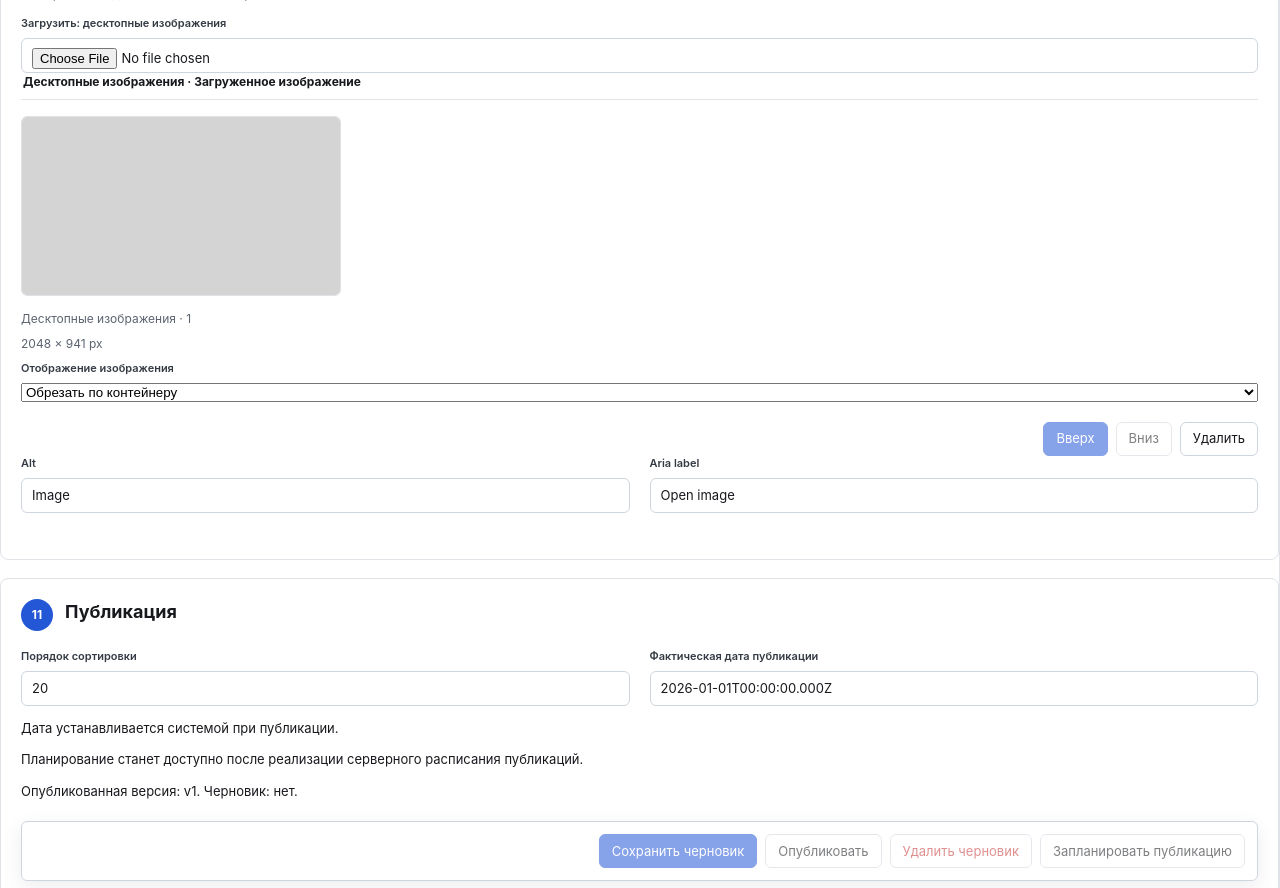
Test: ProjectInspector media corrective QA › closes removal confirmation with Escape without changing draft media
(page scrolled)
Click the button with aria-label "Удалить изображение «Десктопные изображения» 1" at [1219, 439], box top-left (1180, 422), bottom-right (1258, 456)
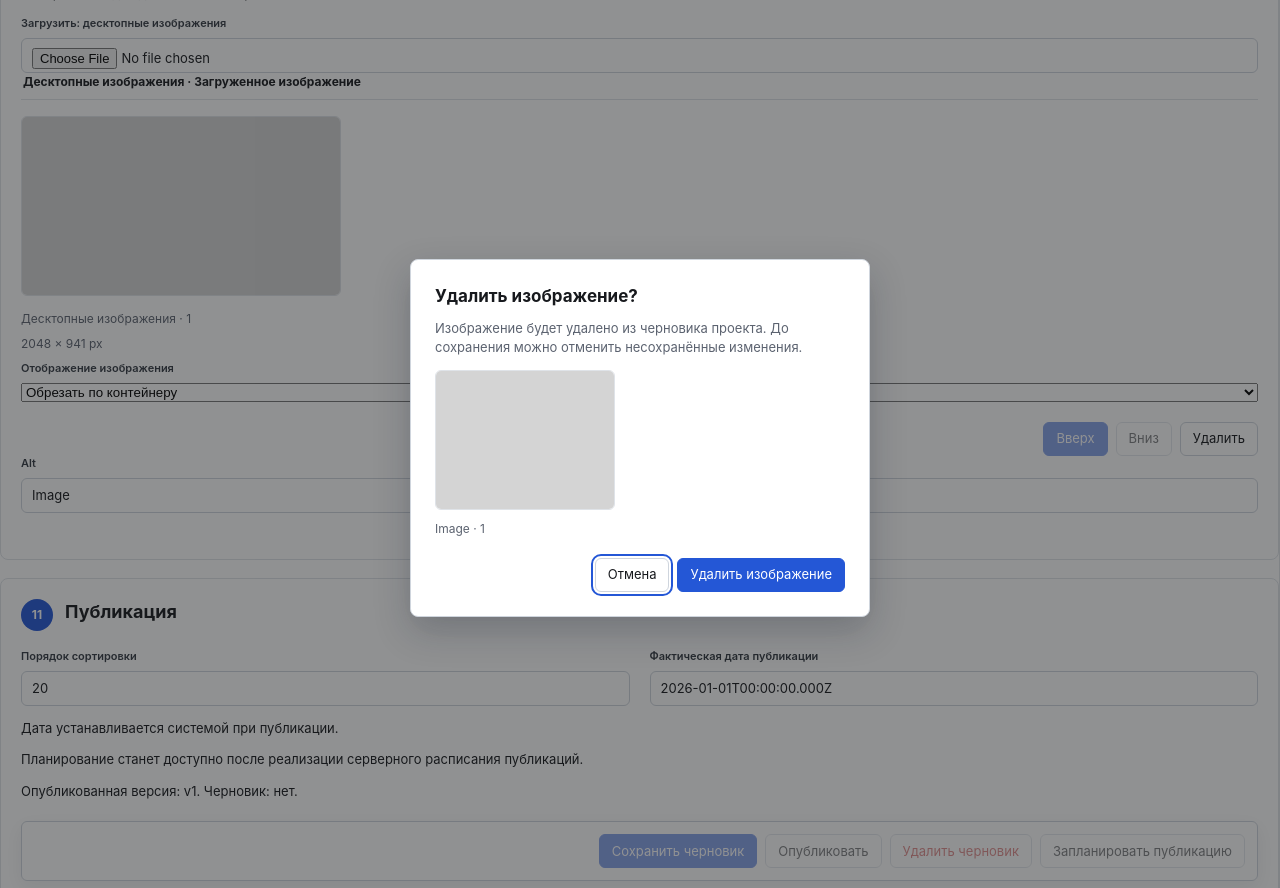
Press Escape
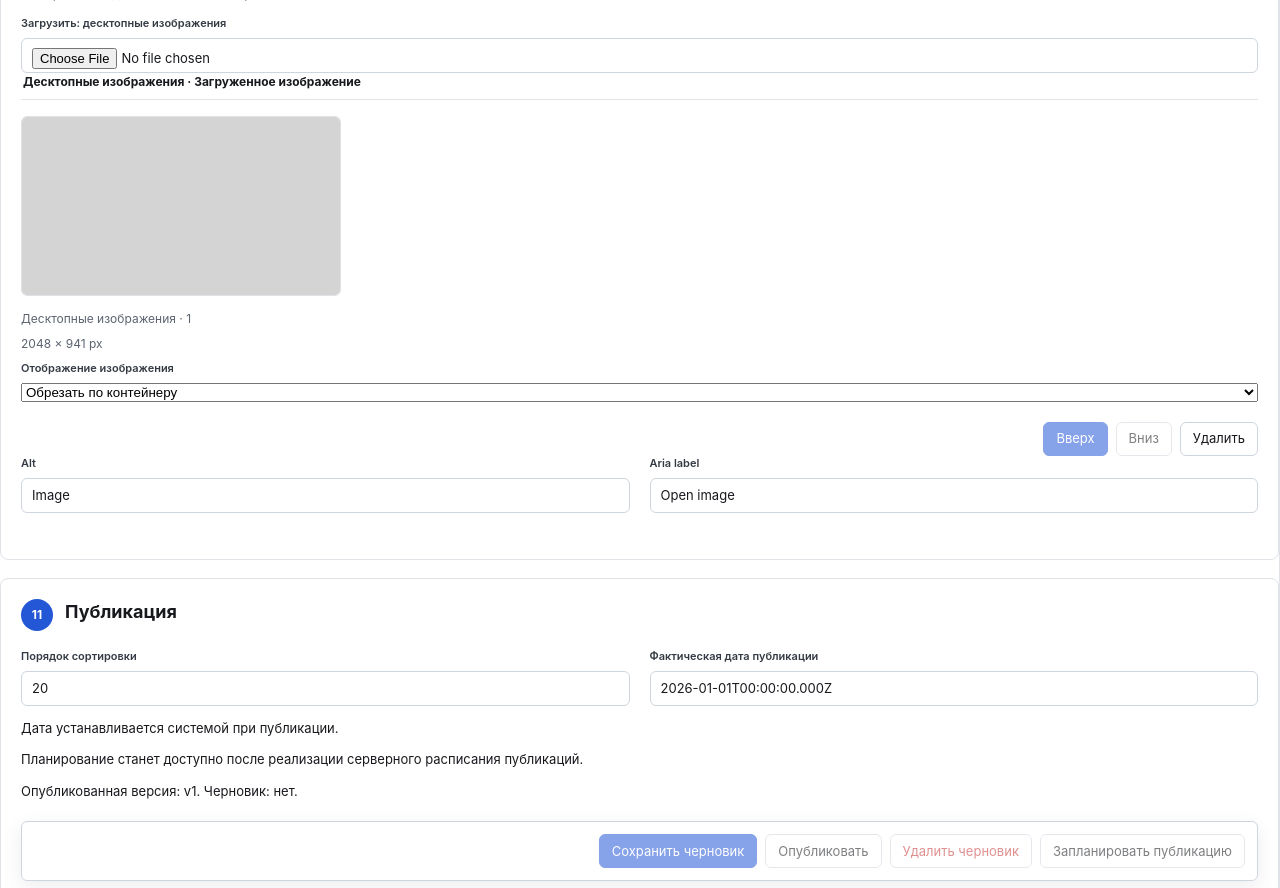
Expected: the button with aria-label "Удалить изображение «Десктопные изображения» 1" is shown, top-left (1180, 422), bottom-right (1258, 456)
Result: the dialog is gone
